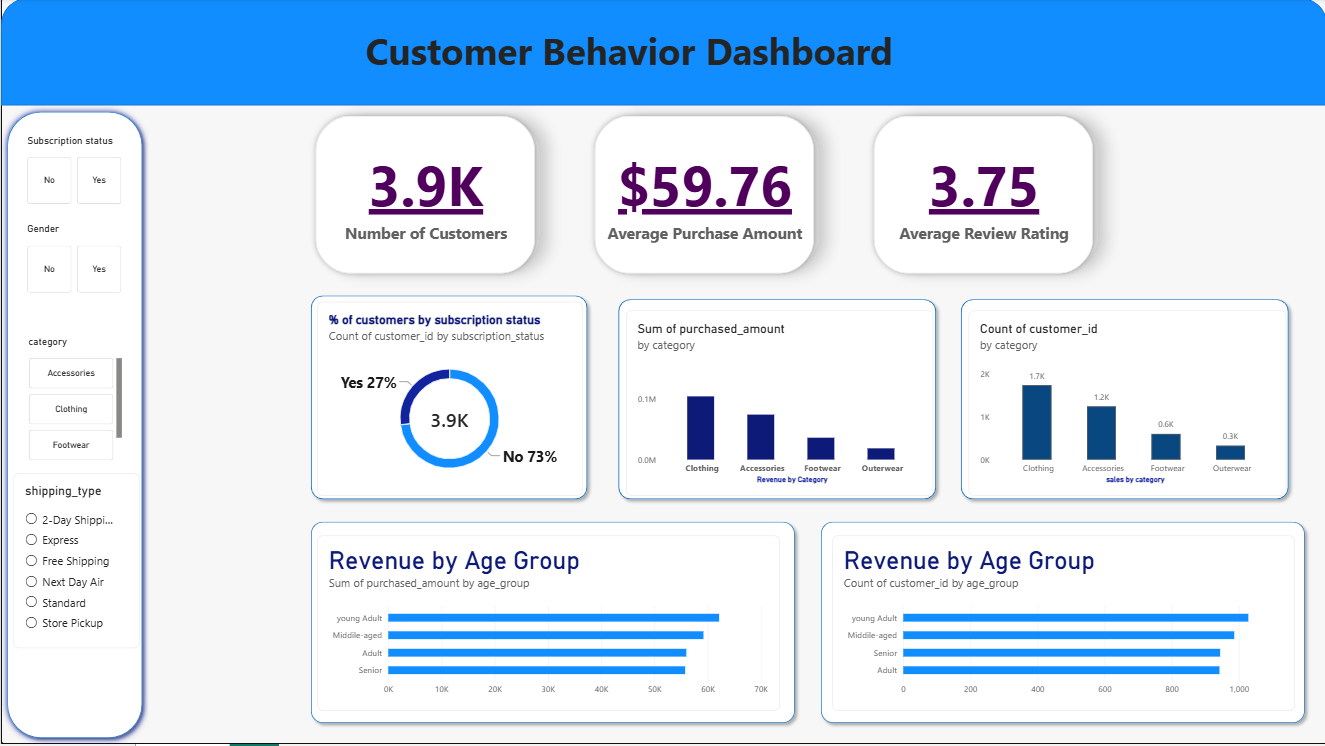

The page's visual inventory and layout, read from the dashboard file:
{"tool":"powerbi","page":{"name":"Page 1","canvas":[1920,1080],"ordinal":0},"visuals":[{"type":"cardVisual","fields":{"Data":["public customer.Number of Customers","public customer.Average Purchase Amount","public customer.Average Review Rating"]},"box":[415.8,129.7,1206.2,308.7],"z":0},{"type":"shape","box":[0,0,1920.1,155.6],"z":1000},{"type":"textbox","box":[39.8,21.7,742,108.6],"z":2000},{"type":"textbox","box":[130.3,39.8,1710.1,90.5],"z":3000},{"type":"shape","box":[439.7,421.7,418,313.1],"z":4000},{"type":"donutChart","title":"% of customers by subscription status","fields":{"Category":["public customer.subscription_status"],"Y":["CountNonNull(public customer.customer_id)"]},"box":[457.8,439.7,383.6,280.5],"z":5000},{"type":"shape","box":[1380.8,427.1,492.2,307.6],"z":6000},{"type":"shape","box":[884.9,427.1,477.8,307.6],"z":7000},{"type":"clusteredColumnChart","fields":{"Category":["public customer.category"],"Y":["Sum(public customer.purchased_amount)"]},"box":[904.8,452.4,445.2,267.8],"z":8000},{"type":"clusteredColumnChart","fields":{"Category":["public customer.category"],"Y":["CountNonNull(public customer.customer_id)"]},"box":[1400.7,452.4,459.7,267.8],"z":9000},{"type":"shape","box":[0,155.6,213.5,924.7],"z":10000},{"type":"advancedSlicerVisual","fields":{"Values":["public customer.subscription_status"]},"box":[38,197.3,137.5,101.3],"z":11000},{"type":"advancedSlicerVisual","fields":{"Values":["public customer.subscription_status"]},"box":[38,325.7,137.5,101.3],"z":12000},{"type":"advancedSlicerVisual","fields":{"Values":["public customer.category"]},"box":[39.8,488.6,135.7,182.8],"z":13000},{"type":"listSlicer","fields":{"Values":["public customer.shipping_type"]},"box":[18.1,687.7,182.8,253.4],"z":14000},{"type":"shape","box":[439.7,749.2,718.4,309.5],"z":15000},{"type":"clusteredBarChart","title":"Revenue by Age Group","fields":{"Category":["public customer.age_group"],"Y":["Sum(public customer.purchased_amount)"]},"box":[457.8,778.2,669.6,253.4],"z":16000},{"type":"shape","box":[1178.1,749.2,718.4,309.5],"z":17000},{"type":"clusteredBarChart","title":"Revenue by Age Group","fields":{"Category":["public customer.age_group"],"Y":["CountNonNull(public customer.customer_id)"]},"box":[1203.4,778.2,669.6,253.4],"z":17001}]}

Visuals, with their boxes in screenshot pixels (x1, y1, x2, y2), scaled from the page's 1920x1080 canvas onto the 1325x746 screenshot:
cardVisual - public customer.Number of Customers x public customer.Average Purchase Amount: pyautogui.locateOnScreen(287, 90, 1119, 303)
shape: pyautogui.locateOnScreen(0, 0, 1324, 107)
textbox: pyautogui.locateOnScreen(27, 15, 540, 90)
textbox: pyautogui.locateOnScreen(90, 27, 1270, 90)
shape: pyautogui.locateOnScreen(303, 291, 592, 508)
"% of customers by subscription status" donutChart: pyautogui.locateOnScreen(316, 304, 581, 497)
shape: pyautogui.locateOnScreen(953, 295, 1293, 507)
shape: pyautogui.locateOnScreen(611, 295, 940, 507)
clusteredColumnChart - public customer.category x Sum(public customer.purchased_amount): pyautogui.locateOnScreen(624, 312, 932, 497)
clusteredColumnChart - public customer.category x CountNonNull(public customer.customer_id): pyautogui.locateOnScreen(967, 312, 1284, 497)
shape: pyautogui.locateOnScreen(0, 107, 147, 745)
advancedSlicerVisual - public customer.subscription_status: pyautogui.locateOnScreen(26, 136, 121, 206)
advancedSlicerVisual - public customer.subscription_status: pyautogui.locateOnScreen(26, 225, 121, 295)
advancedSlicerVisual - public customer.category: pyautogui.locateOnScreen(27, 337, 121, 464)
listSlicer - public customer.shipping_type: pyautogui.locateOnScreen(12, 475, 139, 650)
shape: pyautogui.locateOnScreen(303, 518, 799, 731)
"Revenue by Age Group" clusteredBarChart: pyautogui.locateOnScreen(316, 538, 778, 713)
shape: pyautogui.locateOnScreen(813, 518, 1309, 731)
"Revenue by Age Group" clusteredBarChart: pyautogui.locateOnScreen(830, 538, 1293, 713)
